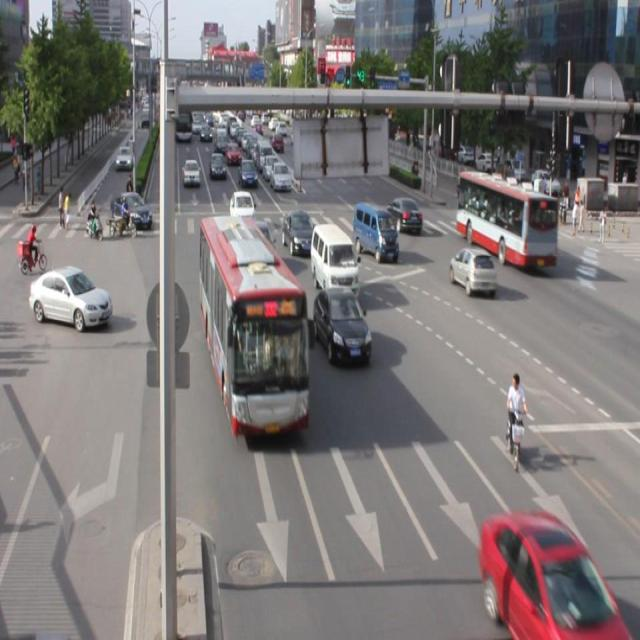car: (478, 508, 624, 640), (312, 285, 370, 361), (447, 244, 496, 294), (282, 208, 316, 255), (386, 196, 422, 232)
truck: (310, 223, 360, 300), (353, 202, 397, 260)
van: (200, 215, 308, 432), (456, 170, 556, 266)
